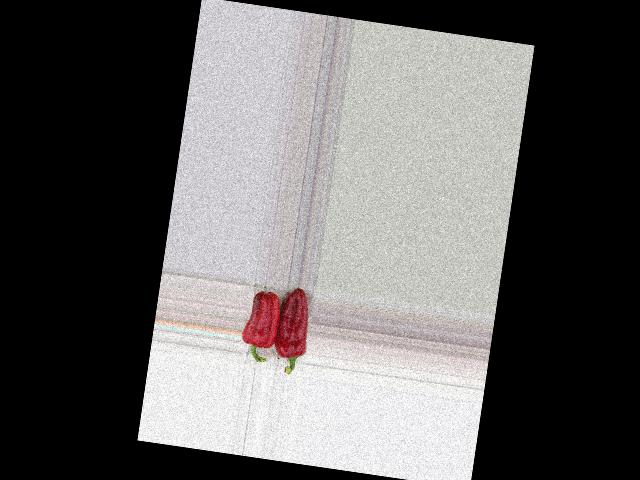bell_pepper: (269, 285, 314, 378)
